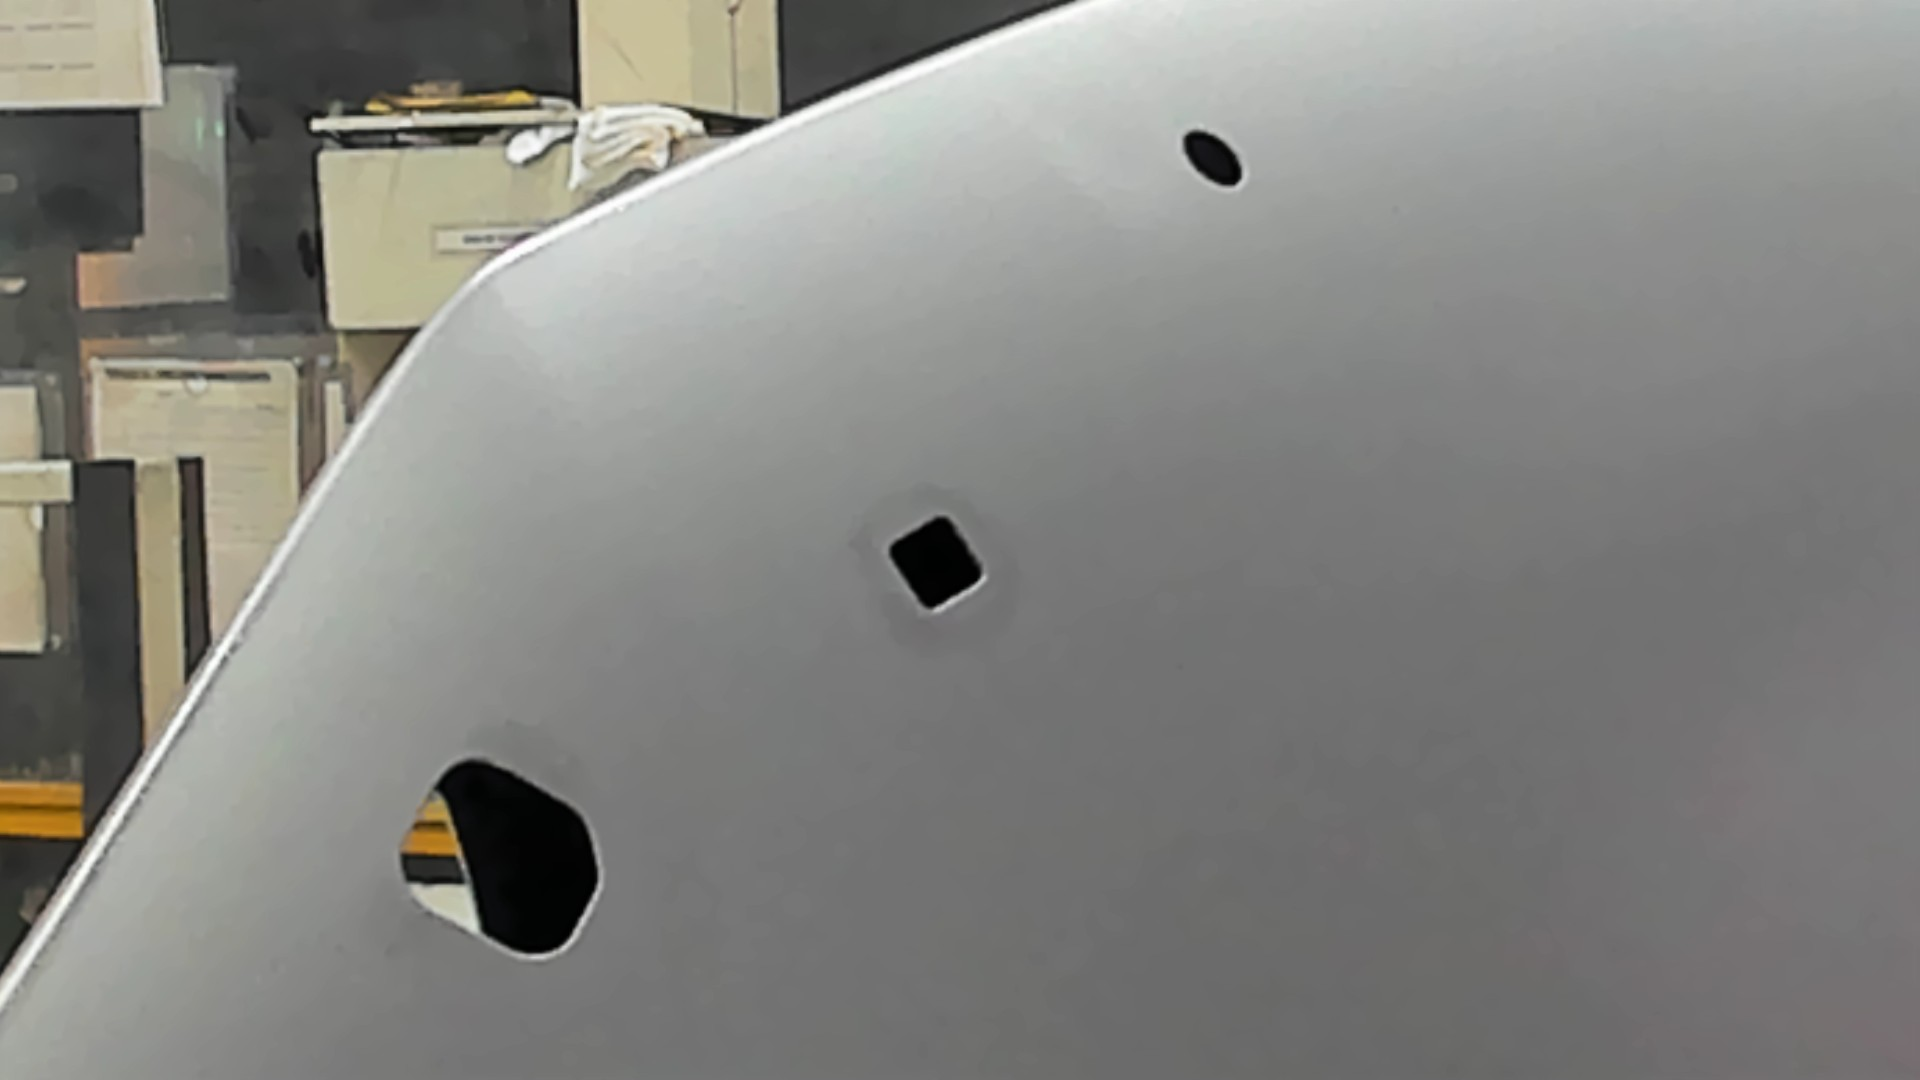Agujero: (886, 514, 986, 615), (1182, 127, 1246, 190)
Agujerote: (398, 757, 603, 963)
